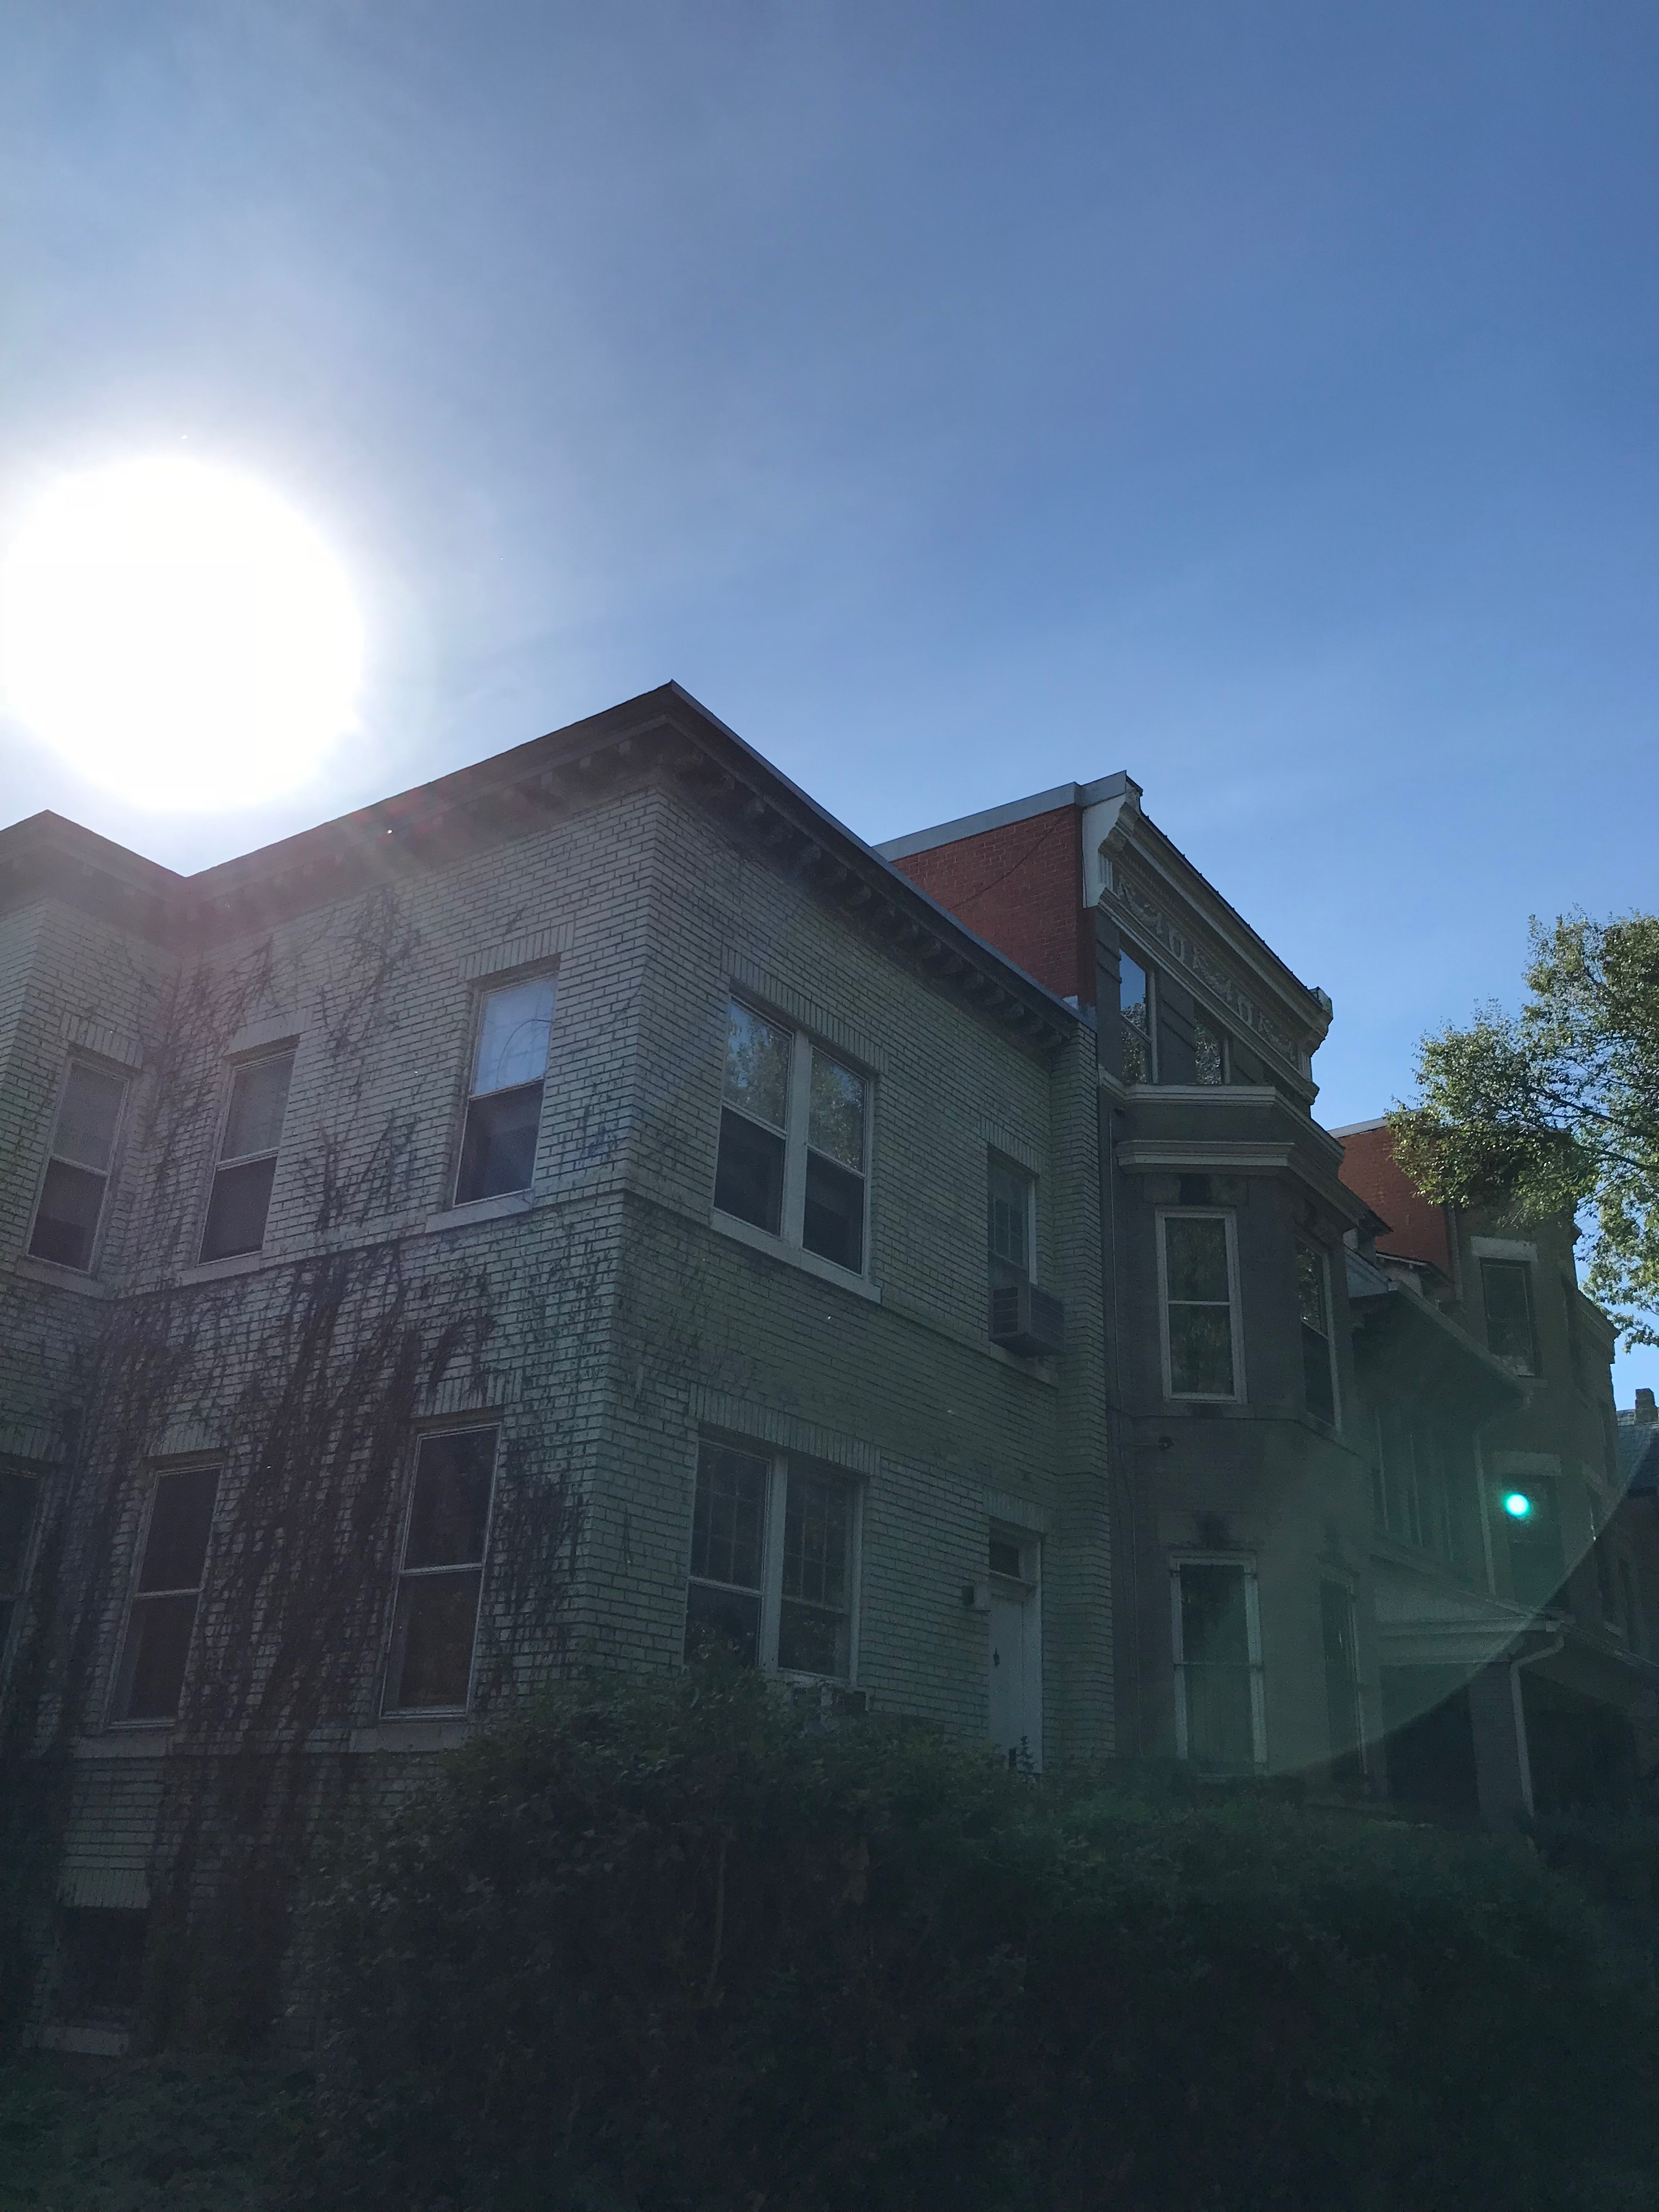flare: (1502, 1491, 1534, 1519)
